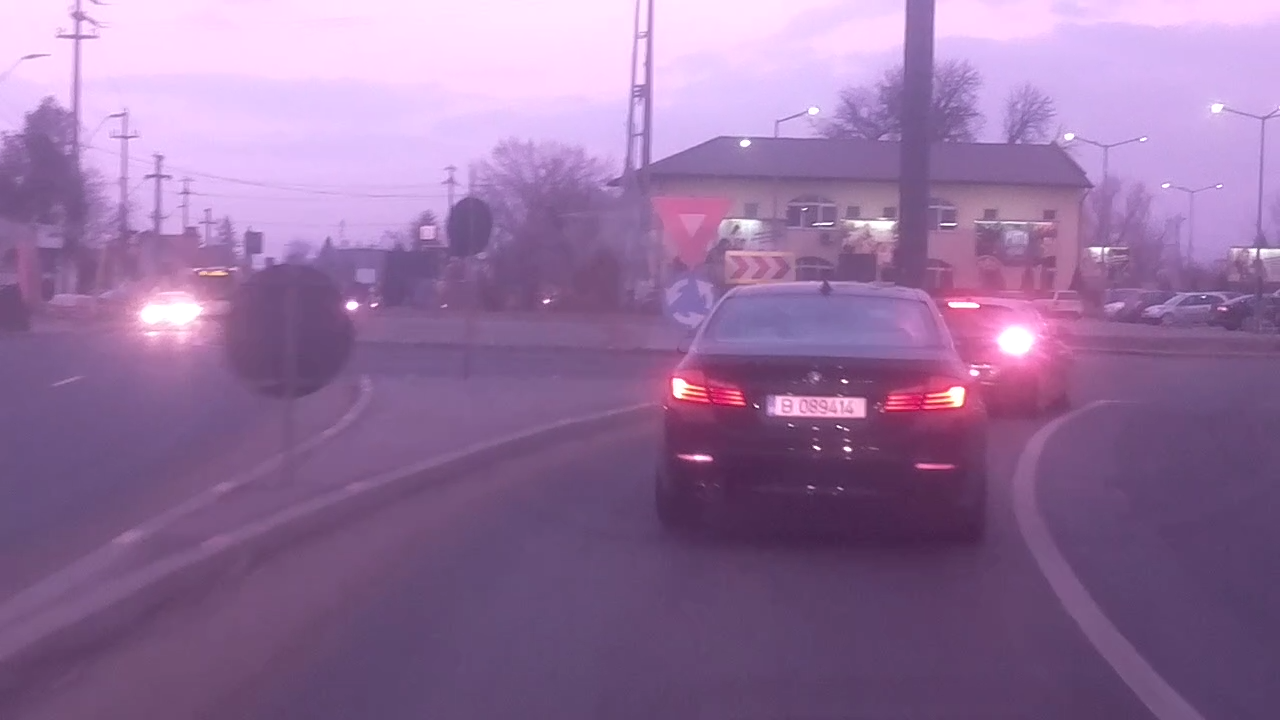license-plate: (762, 391, 871, 422)
